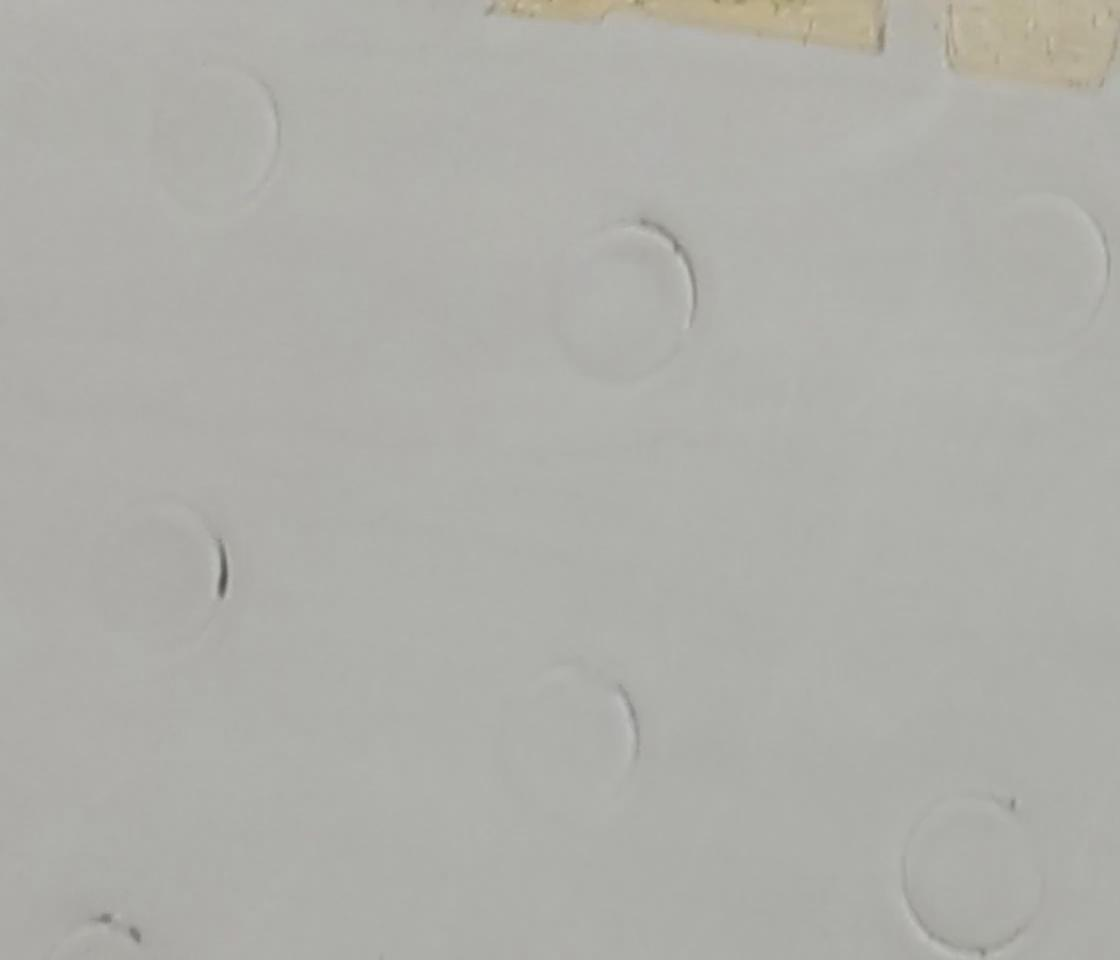scratch: (207, 536, 243, 609)
